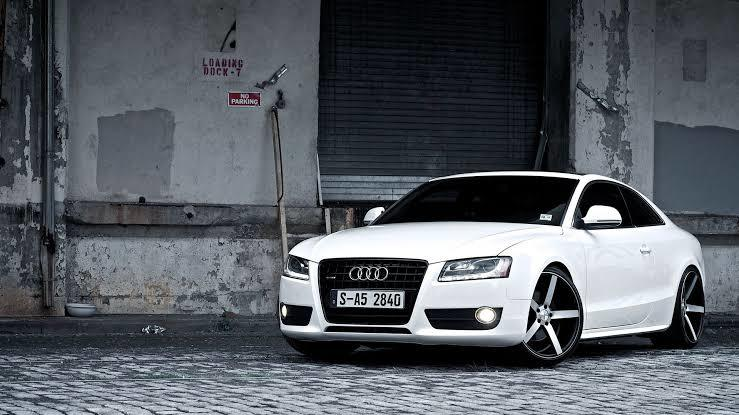audi: (275, 167, 712, 364)
